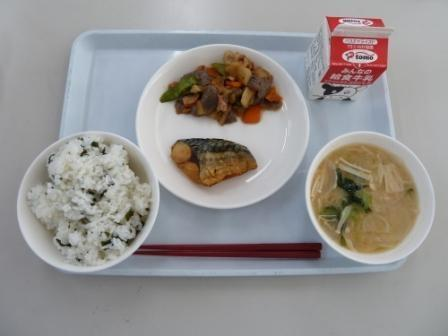Fish: (163, 132, 266, 195)
Milk: (302, 12, 394, 104)
Rice: (16, 139, 161, 269)
cooked food meat with vegetables: (163, 51, 291, 125)
vegetable soup: (303, 135, 429, 259)
